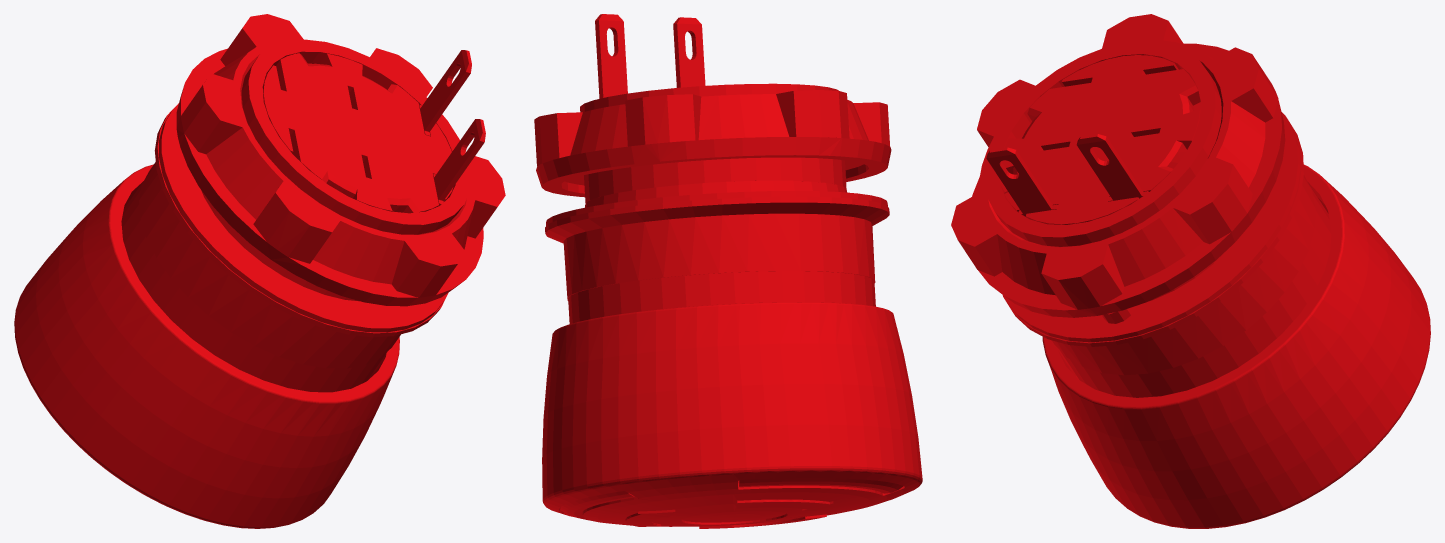
The picture shows the model from 3 angles, left to right: view 1: azimuth 30°, elevation 25°; view 2: azimuth 150°, elevation 25°; view 3: azimuth 270°, elevation 25°; orthographic projection. The views are drawn at different scales.
Visible parts, largest first — view 1: estop_link; view 2: estop_link; view 3: estop_link.
Part boxes in pixels (x1=…): estop_link: x1=14, y1=14, x2=505, y2=528; estop_link: x1=534, y1=14, x2=922, y2=528; estop_link: x1=951, y1=14, x2=1430, y2=528.
Size of the model in its own units: 0.0387 by 0.0413 by 0.0433.
